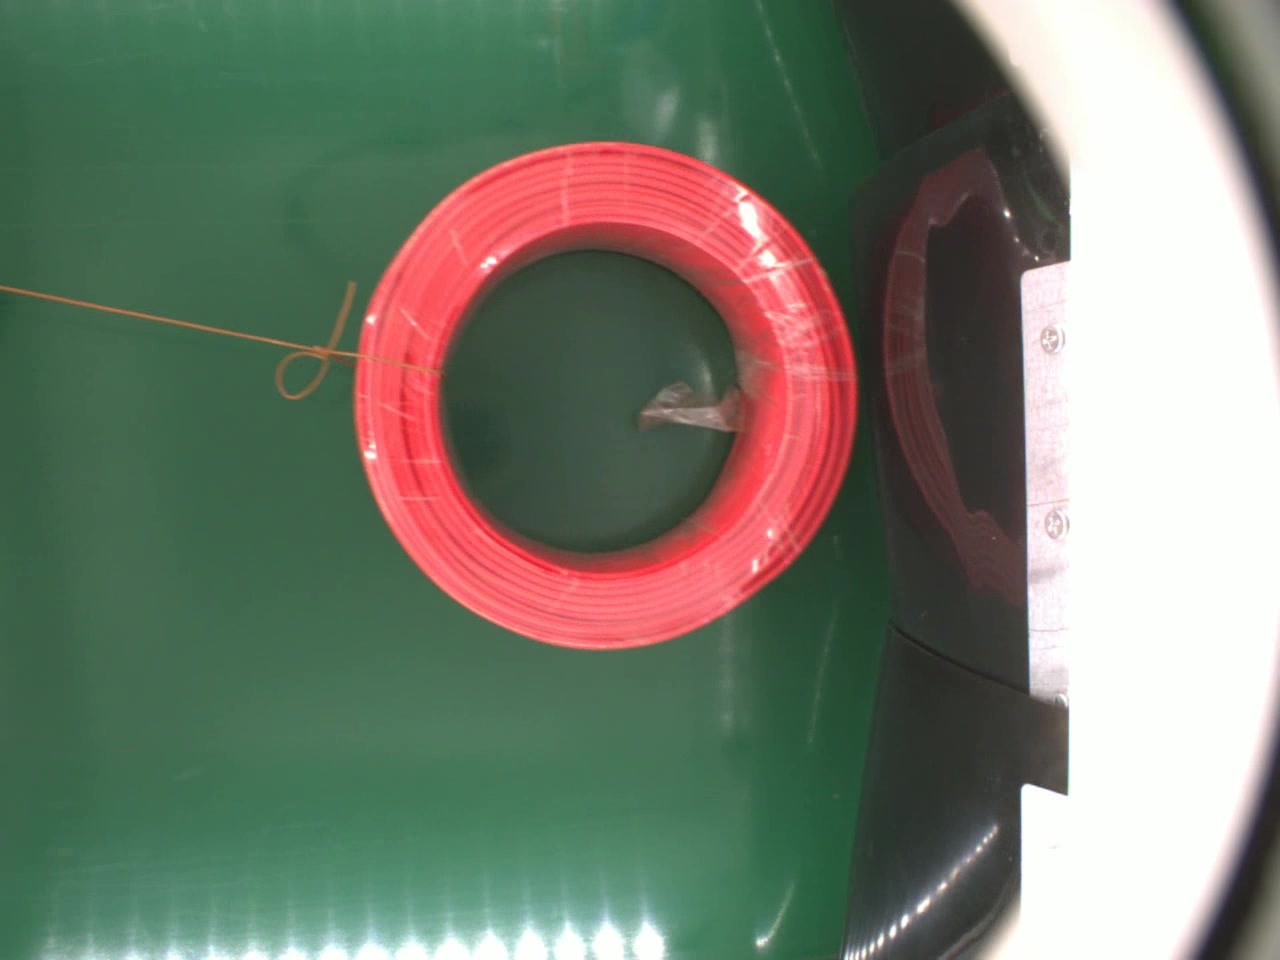red: (351, 139, 858, 651)
